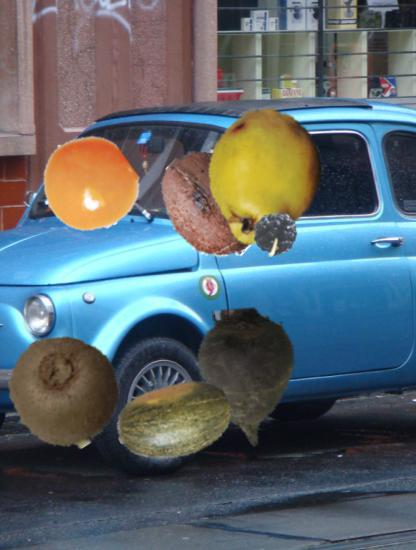Beetroot: (172, 305, 322, 455)
Cocos: (154, 146, 270, 262)
Kiwi: (7, 333, 123, 449)
Melon: (116, 363, 231, 478)
Mulberry: (248, 198, 304, 254)
Physalis: (39, 135, 138, 234)
Quince: (193, 108, 332, 247)
